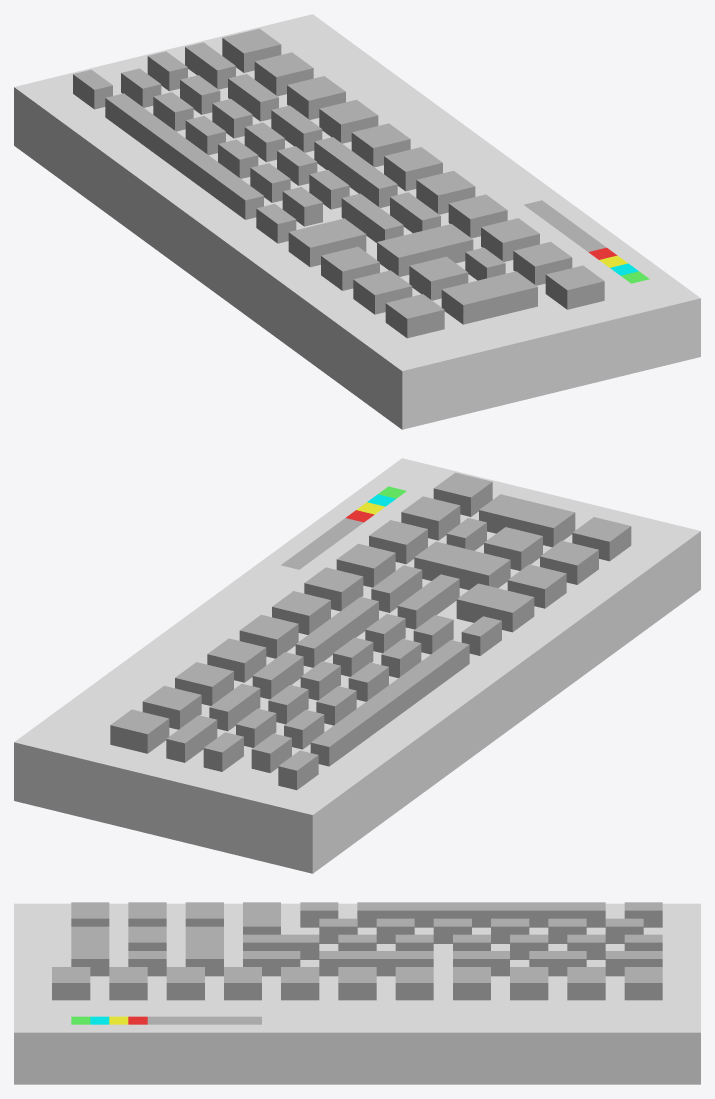
Rendered from Voxel Universe-47-Computer Keyboard.obj.
3 renders of one model, top to bottom at view 1: azimuth 30°, elevation 25°; view 2: azimuth 150°, elevation 25°; view 3: azimuth 270°, elevation 25°, orthographic. The views are drawn at different scales.
Parts seen in each view (by area): view 1: Computer Keyboard; view 2: Computer Keyboard; view 3: Computer Keyboard.
Boxes of the visible parts, bbox=[...] form: Computer Keyboard: bbox=[14, 14, 700, 429]; Computer Keyboard: bbox=[14, 458, 700, 873]; Computer Keyboard: bbox=[14, 902, 700, 1084].
Size of the model in its own units: 1.6 by 0.4 by 3.6.
Materials: 1 (1 with a texture image).
